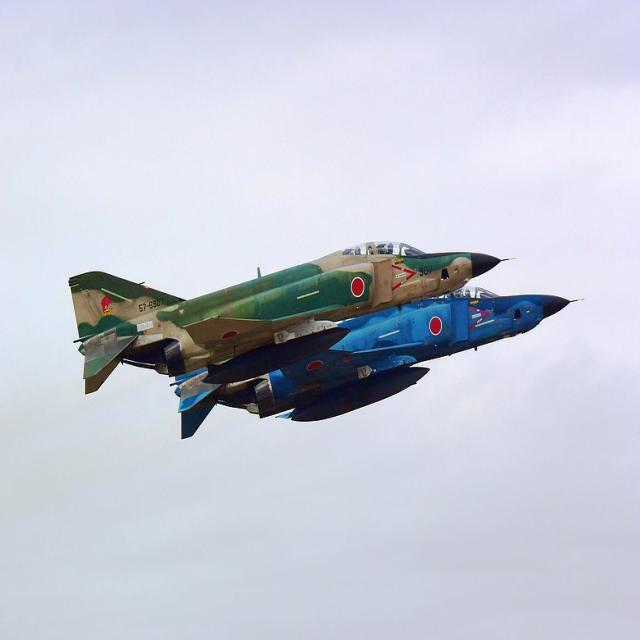MIL_Plane: (68, 240, 516, 394), (170, 285, 584, 440)
